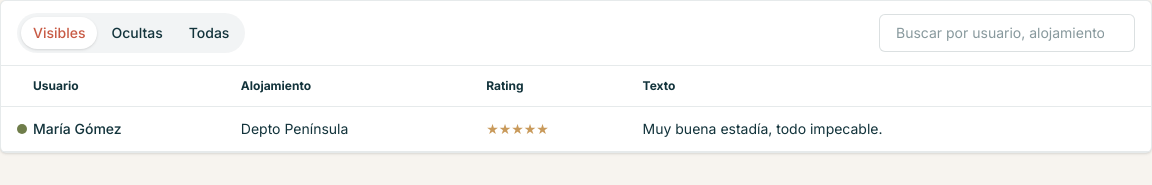
ResenasTable — filtros y búsqueda › sin resultados en un filtro, el mensaje menciona el filtro elegido
What coordinates should you click on to do the following:
click the button "Ocultas"
I would click on:
 (137, 33)
Its box is [100,17,175,49].
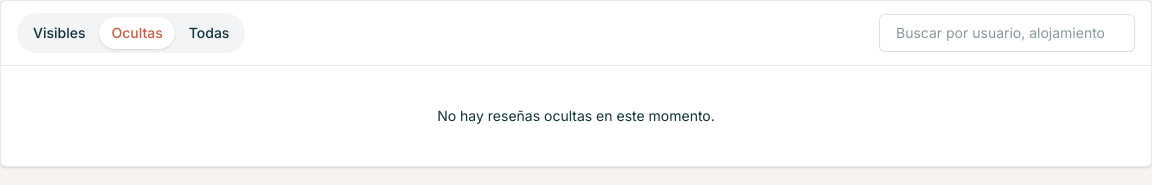
Check: the text "No hay reseñas ocultas en este momento." is shown, box [437,107,715,124]
